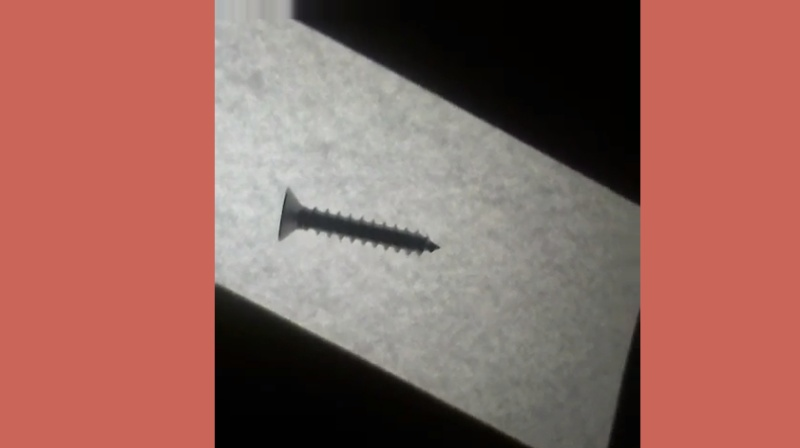S001: (272, 184, 443, 257)
